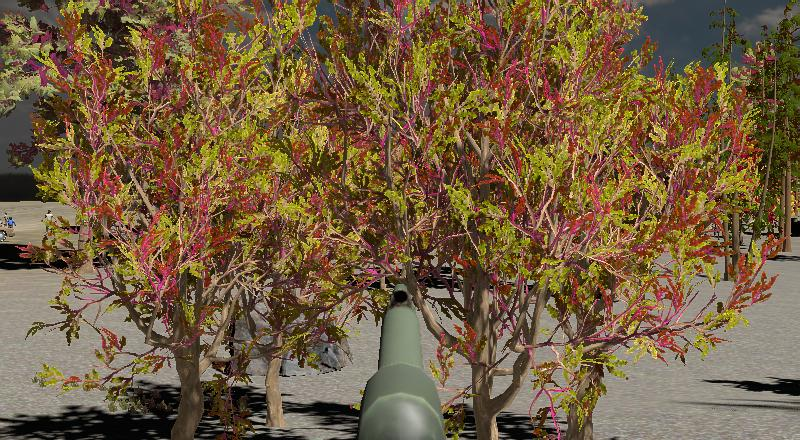car: (0, 210, 17, 243)
